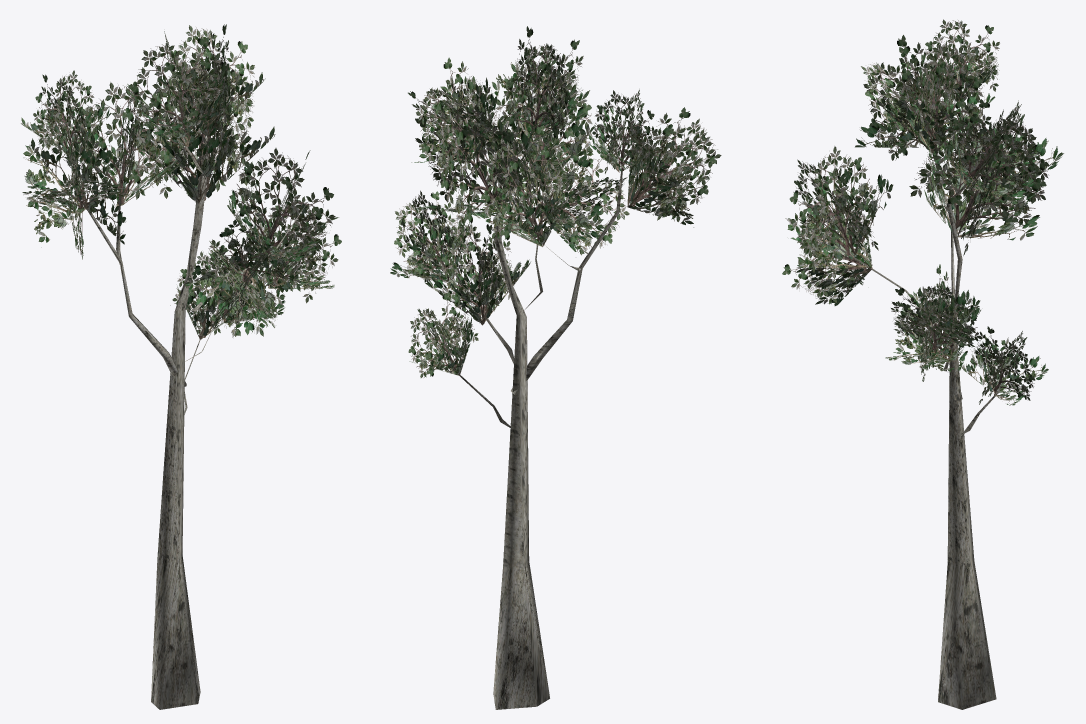
File: decd_whitebirchtreeleaves_a1_l1.fbx
3 renders of one model, left to right at view 1: azimuth 30°, elevation 25°; view 2: azimuth 150°, elevation 25°; view 3: azimuth 270°, elevation 25°, orthographic. The views are drawn at different scales.
Parts seen in each view (by area): view 1: mesh_node; view 2: mesh_node; view 3: mesh_node.
Part boxes in pixels (x1,y1,x2,y2): mesh_node: (21, 24, 341, 709); mesh_node: (390, 26, 721, 709); mesh_node: (782, 19, 1063, 709).
Size of the model in its own units: 7.87 by 15.21 by 6.49.
